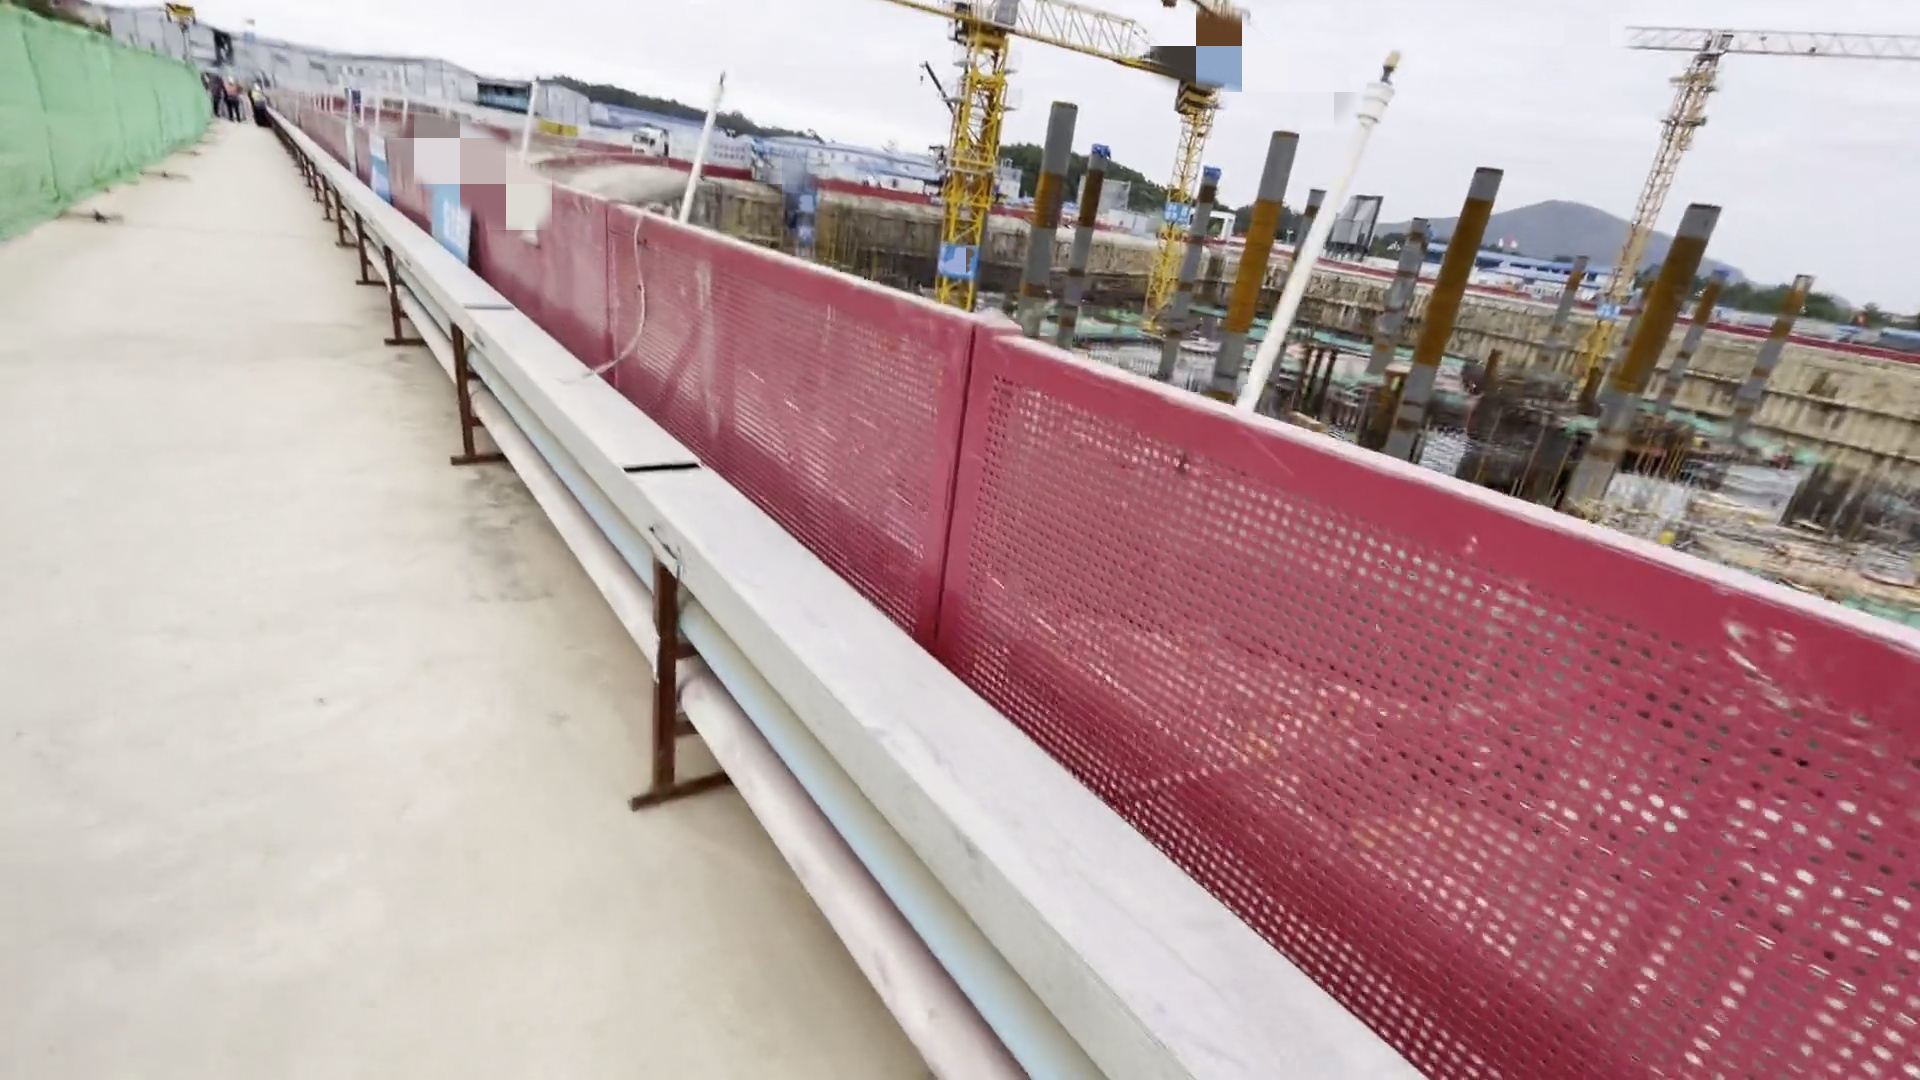fence: (208, 74, 1869, 1069)
hook: (160, 1, 208, 42)
slogan: (338, 105, 423, 207), (418, 170, 479, 266)
